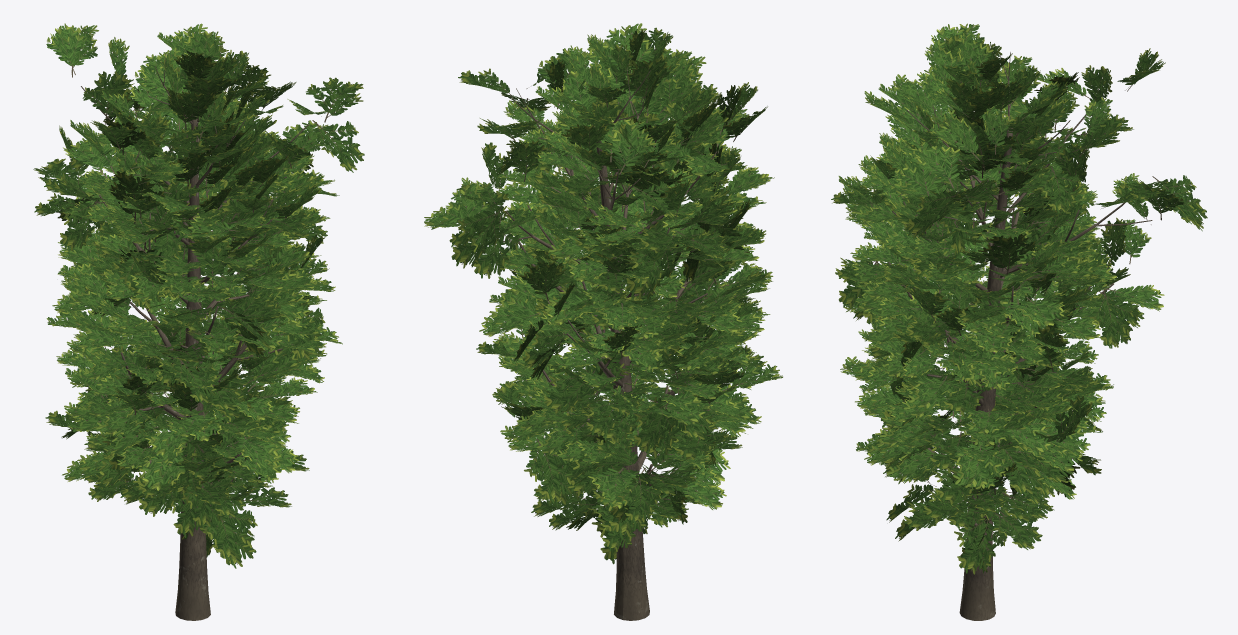
File: Fukugi.gltf
The picture shows the model from 3 angles, left to right: view 1: azimuth 30°, elevation 25°; view 2: azimuth 150°, elevation 25°; view 3: azimuth 270°, elevation 25°; orthographic projection.
Visible parts, largest first — view 1: Fukugi; view 2: Fukugi; view 3: Fukugi.
Boxes of the visible parts, x1,y1,x2,y2 form: Fukugi: (33, 23, 364, 620); Fukugi: (424, 23, 782, 620); Fukugi: (831, 23, 1207, 620).
Size of the model in its own units: 5.21 by 8.79 by 5.59.
Materials: 2 (2 with a texture image).
